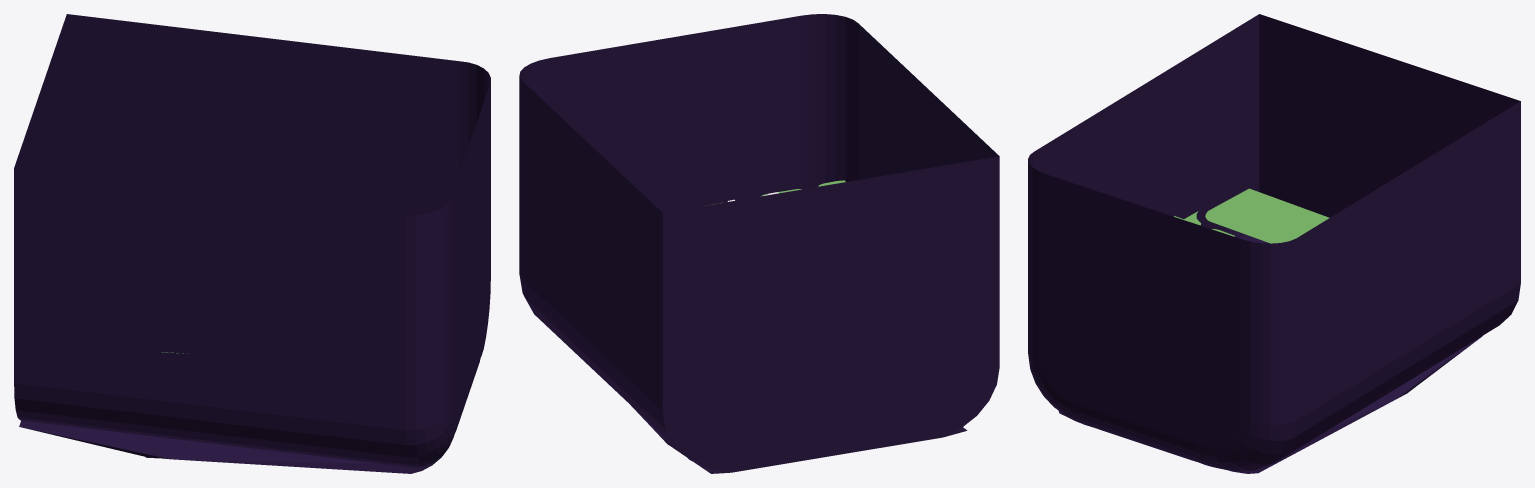
The model's file is INGLE_campus_map2.glb.
3 views of the same model, side by side, from view 1: azimuth 30°, elevation 25°; view 2: azimuth 150°, elevation 25°; view 3: azimuth 270°, elevation 25° (orthographic). The views are drawn at different scales.
Parts seen in each view (by area): view 1: Cube.006; view 2: Cube.006; view 3: Cube.006, Areas:leisure.002.
Part boxes in pixels (bbox=[...]): Cube.006: bbox=[14, 14, 490, 473]; Cube.006: bbox=[519, 14, 999, 473]; Cube.006: bbox=[1028, 14, 1520, 473]; Areas:leisure.002: bbox=[1174, 188, 1329, 243].
Size of the model in its own units: 1792 by 1077 by 1776.
